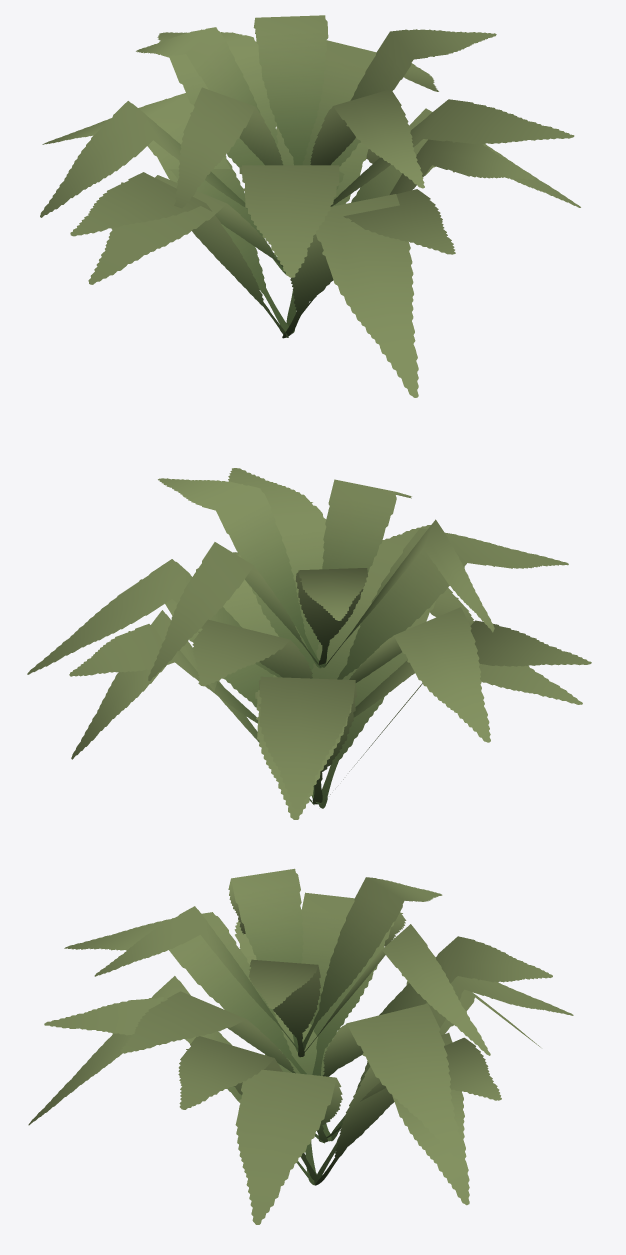
The model's file is Plante pot02.fbx.
3 views of the same model, one above another, from view 1: azimuth 30°, elevation 25°; view 2: azimuth 150°, elevation 25°; view 3: azimuth 270°, elevation 25° (orthographic). The views are drawn at different scales.
Parts seen in each view (by area): view 1: pPlane79; view 2: pPlane79; view 3: pPlane79.
Boxes of the visible parts, x1,y1,x2,y2 form: pPlane79: (40, 15, 580, 397); pPlane79: (27, 468, 591, 819); pPlane79: (28, 868, 573, 1224).
Size of the model in its own units: 0.4663 by 0.2427 by 0.4576.
